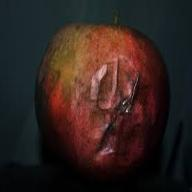apple: (40, 24, 170, 176)
